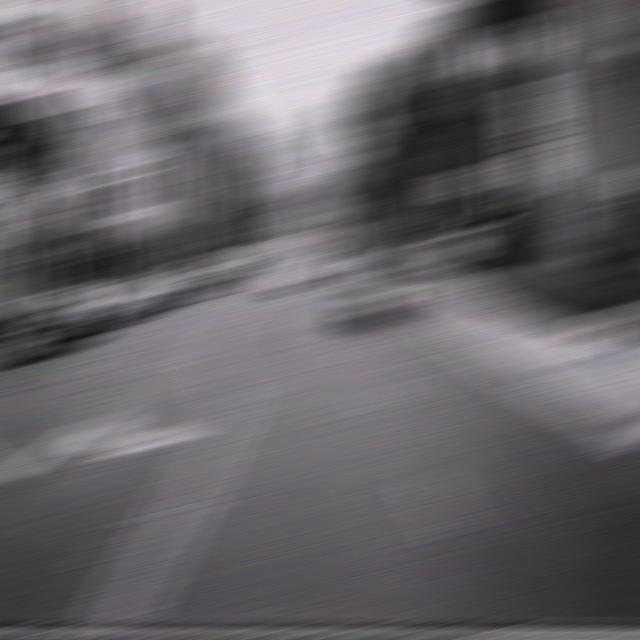speedLimit25: (508, 80, 560, 176)
